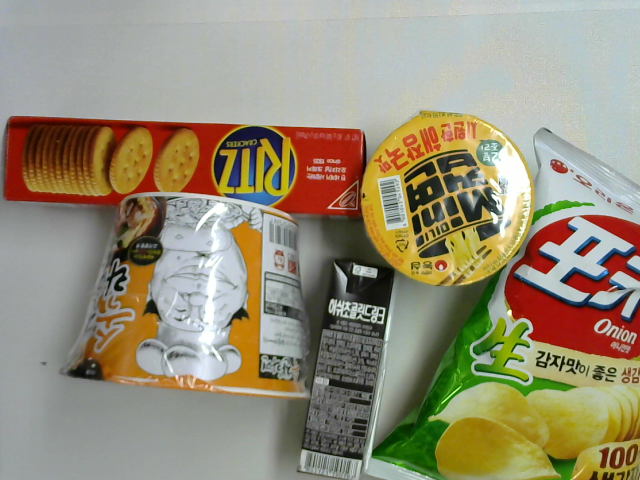Hejangchan: (57, 189, 318, 410)
Hejangmini: (358, 110, 536, 290)
Hush_Choco_Drink: (291, 255, 399, 480)
Pocachip_Onion: (358, 119, 640, 477)
Ritz_Cracker: (1, 116, 371, 222)
